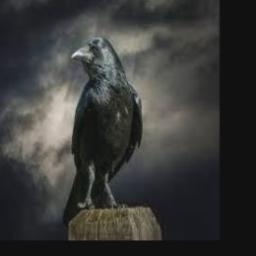Crow: (62, 37, 142, 223)
